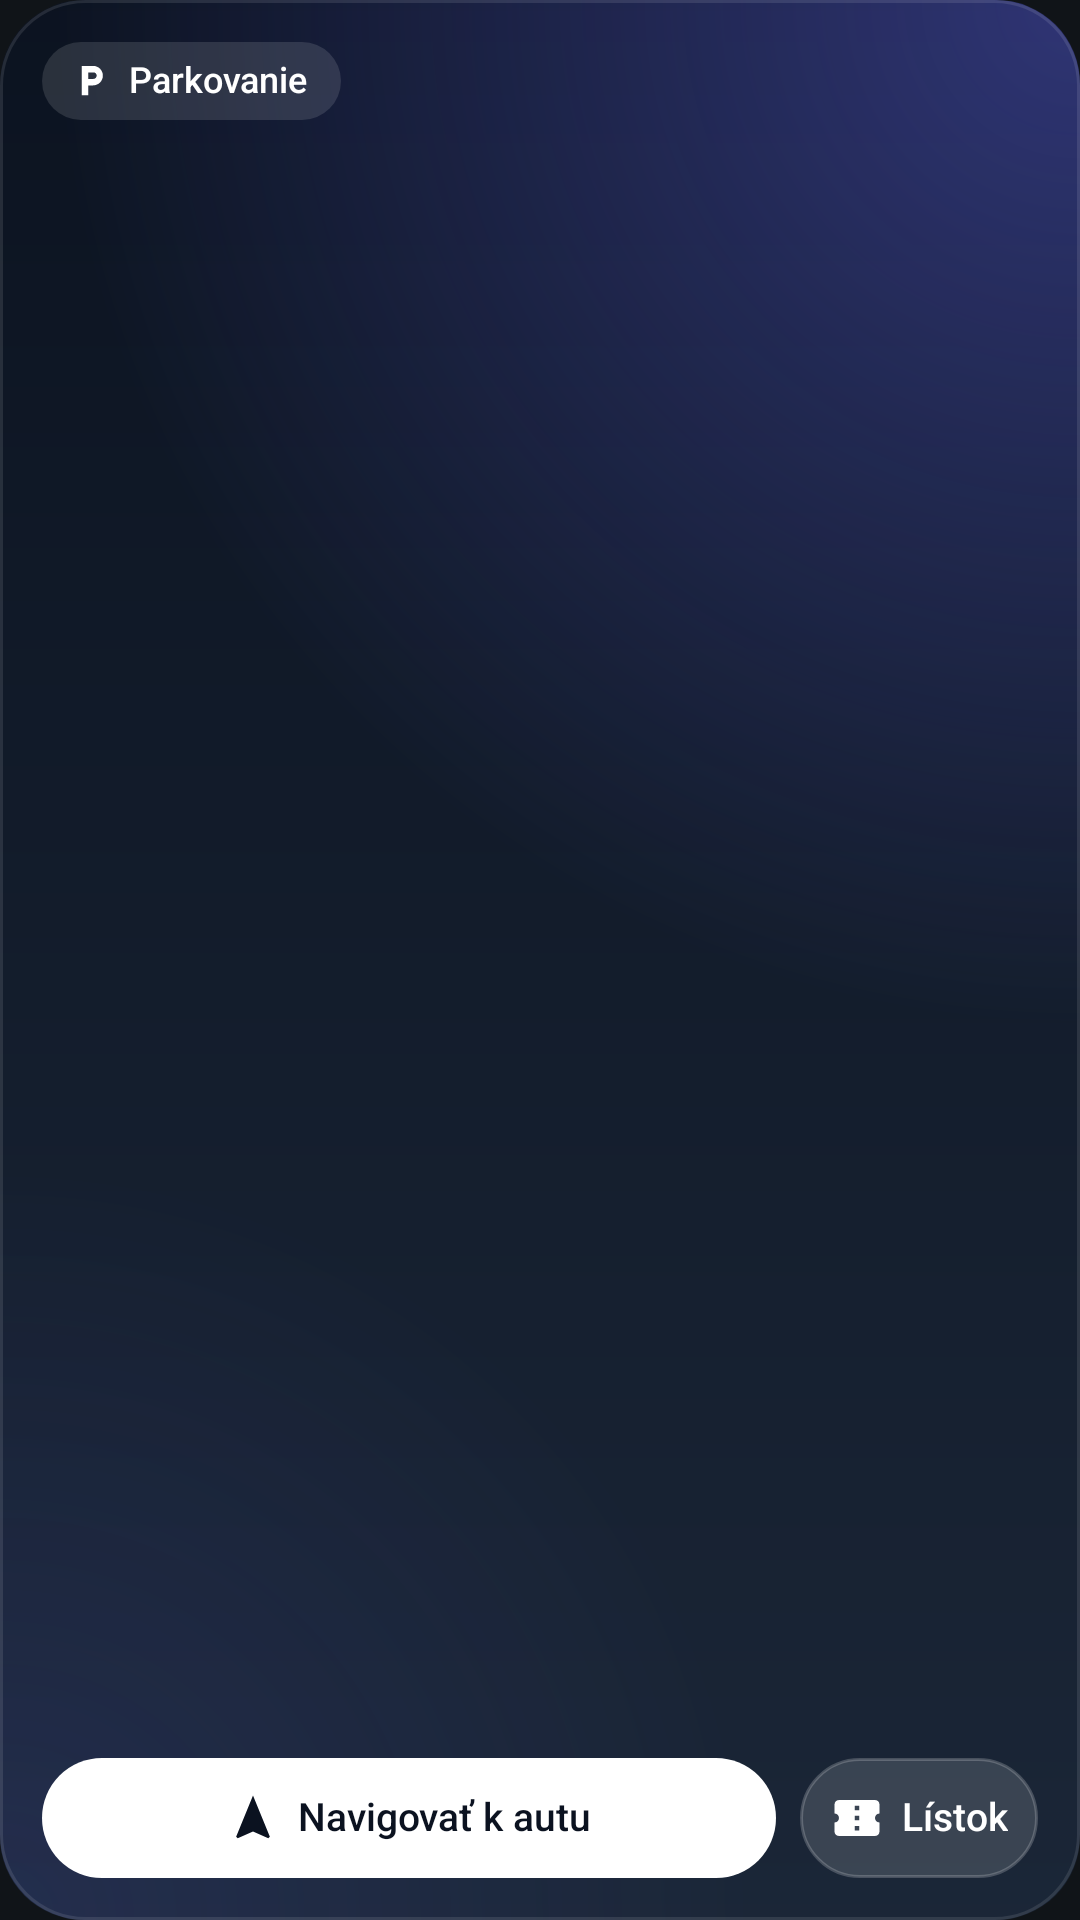

Icons on this 1080x1920 Android screen, each with its box as (x1, y1, x2, y2):
nav: (236, 1796, 270, 1838)
ticket: (834, 1800, 880, 1836)
